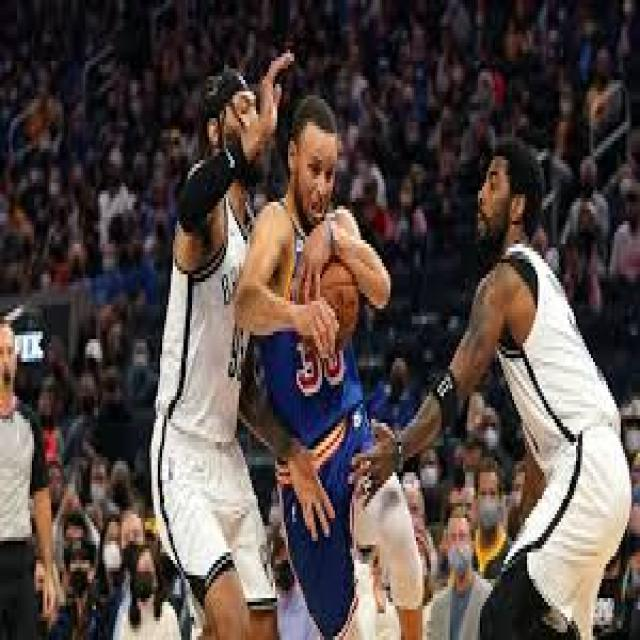rim: (305, 255, 358, 339)
